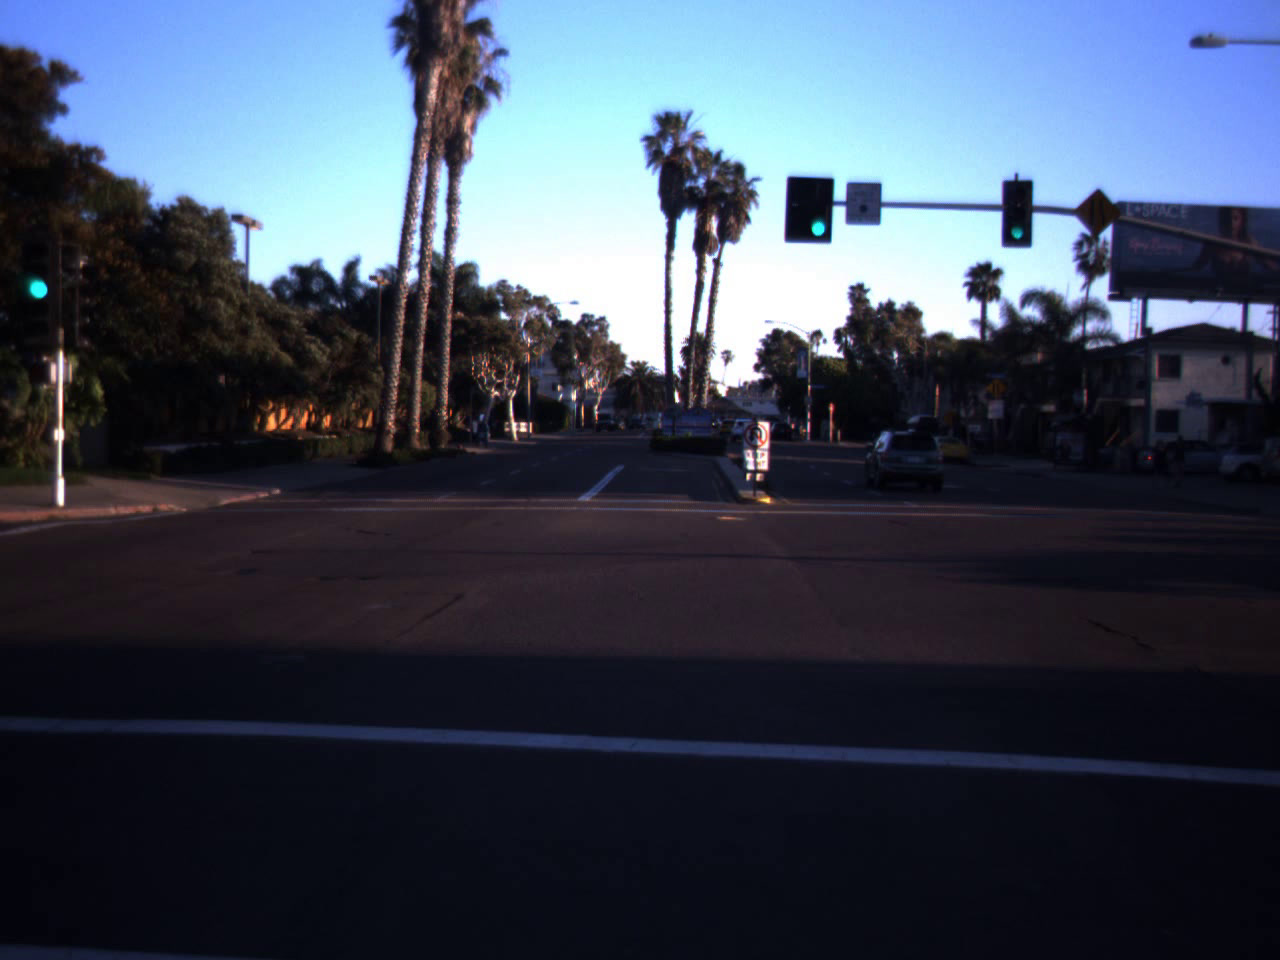go: (15, 226, 63, 306), (800, 176, 836, 241), (1007, 211, 1028, 241)
